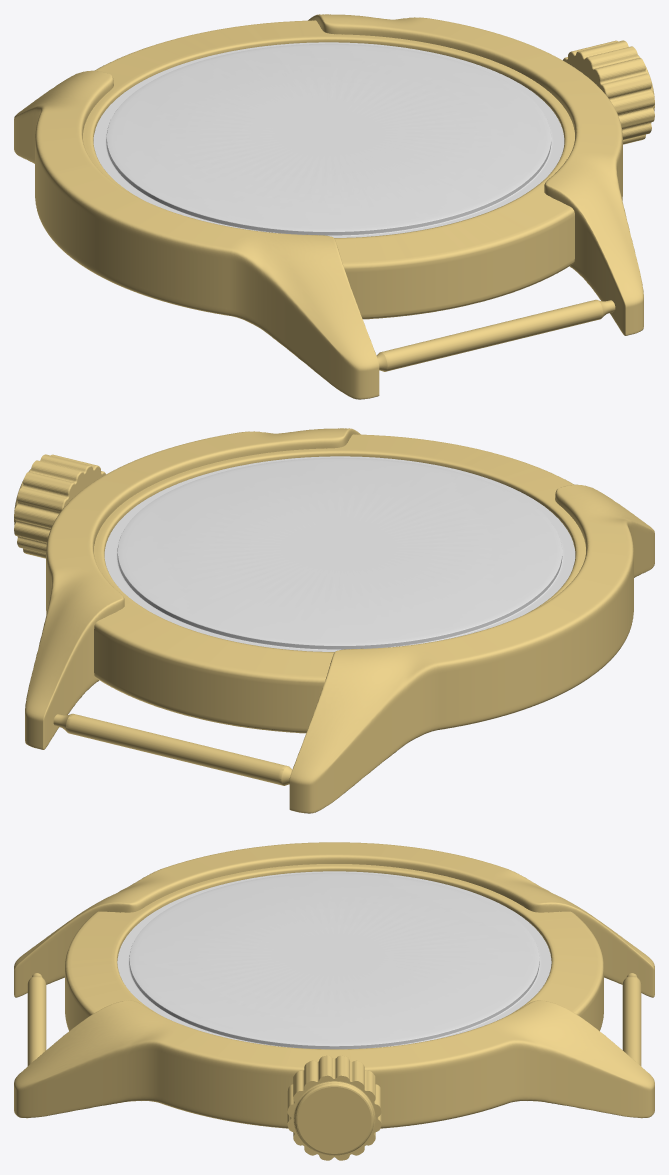
Rendered from cmpGoldWatch.gltf.
The picture shows the model from 3 angles, top to bottom: view 1: azimuth 30°, elevation 25°; view 2: azimuth 150°, elevation 25°; view 3: azimuth 270°, elevation 25°; orthographic projection. The views are drawn at different scales.
Visible parts, largest first — view 1: Glass, Case 1, Case 2, Wheel; view 2: Glass, Case 1, Case 2, Wheel; view 3: Case 1, Glass, Case 2, Wheel.
Boxes of the visible parts, <box> form: Glass: <box>93,42,564,237</box>; Case 1: <box>14,14,643,399</box>; Case 2: <box>83,20,574,319</box>; Wheel: <box>563,40,654,144</box>; Glass: <box>104,456,575,651</box>; Case 1: <box>25,428,654,813</box>; Case 2: <box>94,434,585,733</box>; Wheel: <box>14,454,105,558</box>; Case 1: <box>14,842,654,1128</box>; Glass: <box>117,871,551,1049</box>; Case 2: <box>65,864,603,1030</box>; Wheel: <box>287,1055,381,1160</box>.
Size of the model in its own units: 0.1117 by 0.0233 by 0.1201.
